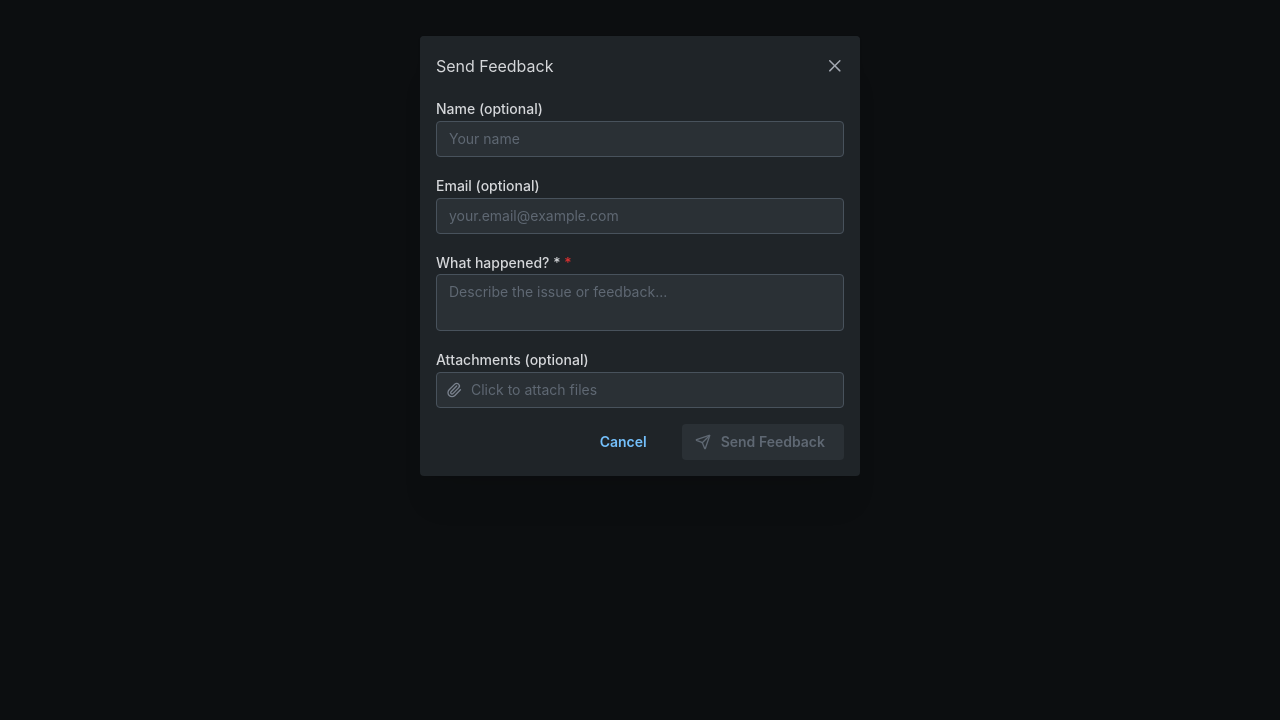
FeedbackModal › enables submit when message is provided
Type "Bug report" into the text box with placeholder "Describe the issue or feedback...". click: (640, 303)
box: [436,274,844,331]
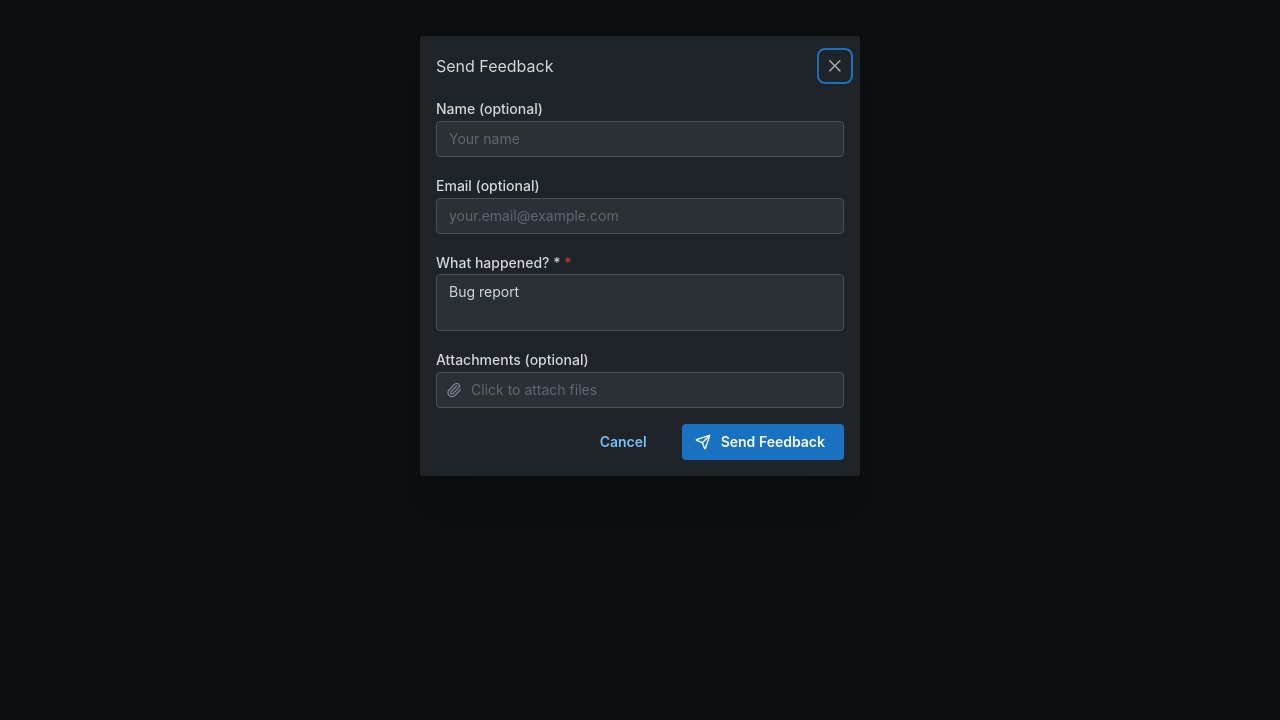
Expected: the button "Send Feedback" is enabled, [682,424,844,460]
